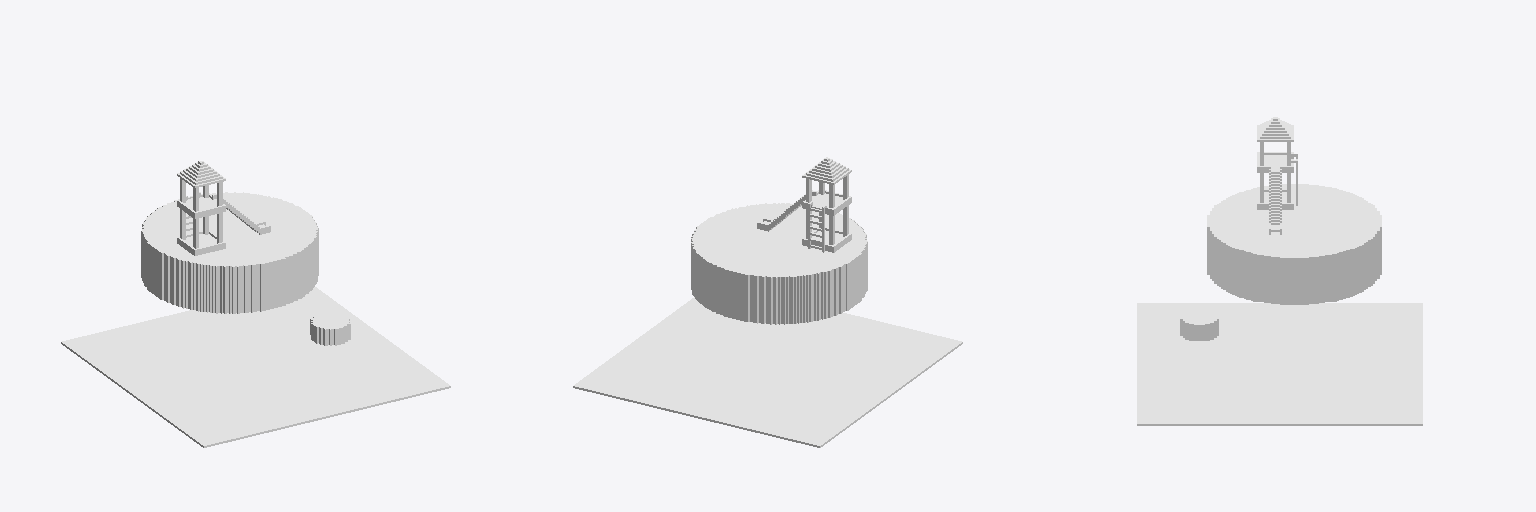
Rendered from lev1-1.obj.
3 renders of one model, left to right at view 1: azimuth 30°, elevation 25°; view 2: azimuth 150°, elevation 25°; view 3: azimuth 270°, elevation 25°, orthographic.
Parts seen in each view (by area): view 1: object 1; view 2: object 1; view 3: object 1.
Part boxes in pixels (bbox=[...]): object 1: bbox=[61, 161, 450, 447]; object 1: bbox=[573, 157, 962, 447]; object 1: bbox=[1137, 117, 1422, 425].
Size of the model in its own units: 12.6 by 10.7 by 12.6.